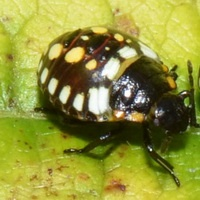insect: (37, 27, 193, 186)
